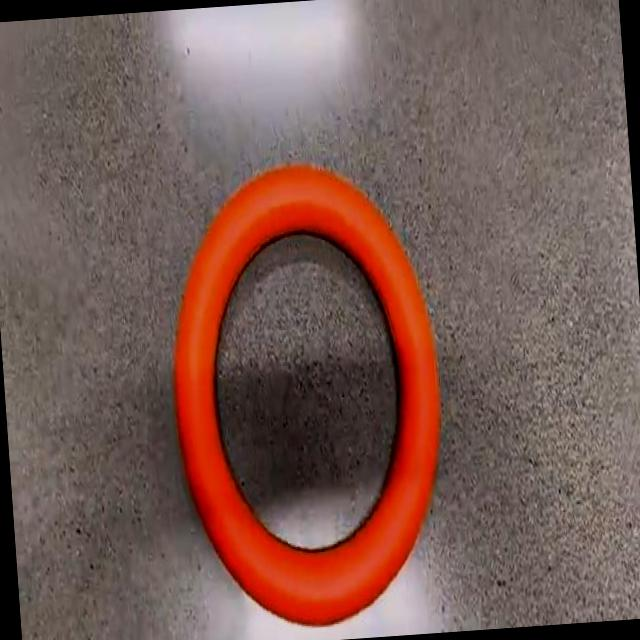note: (174, 167, 439, 621)
